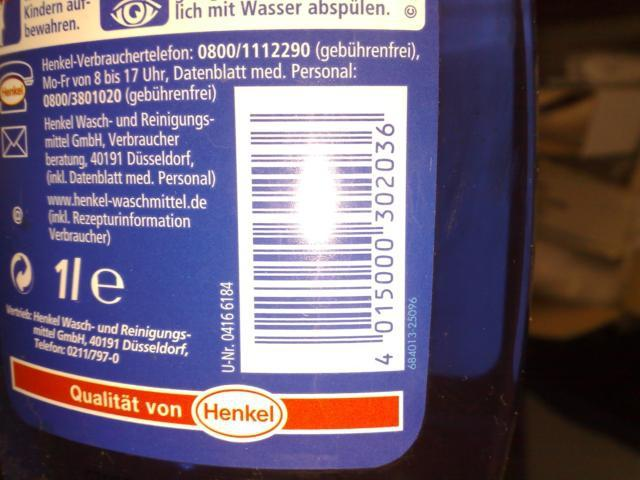Barcode: (234, 104, 407, 377)
